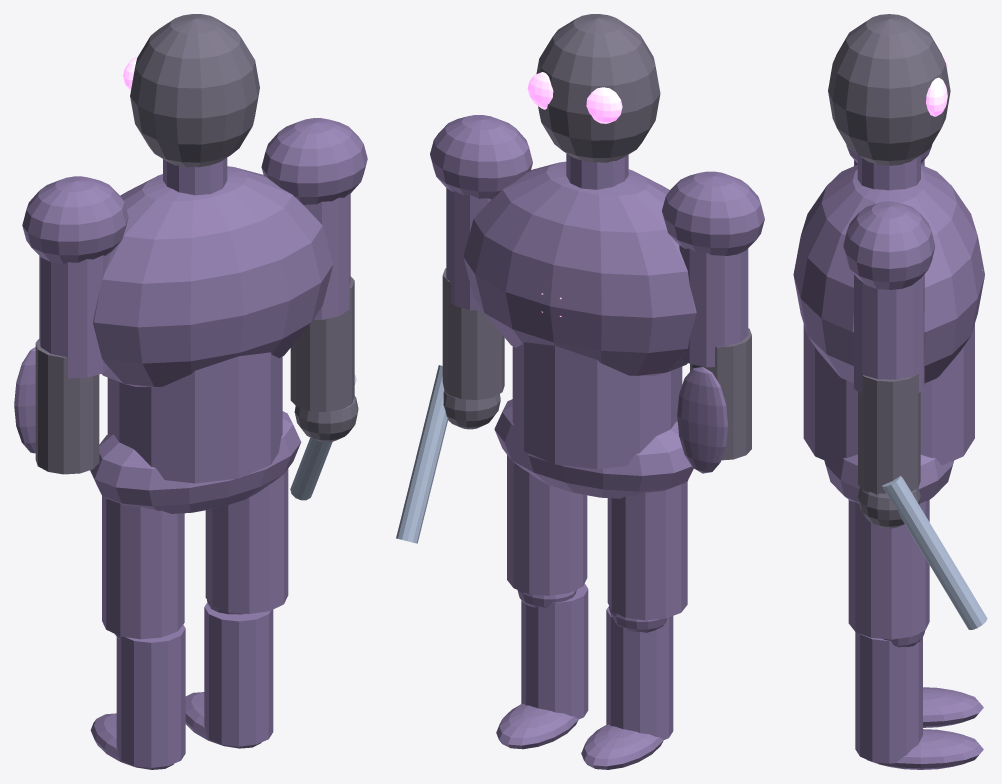
File: race_enemy.glb
3 renders of one model, left to right at view 1: azimuth 30°, elevation 25°; view 2: azimuth 150°, elevation 25°; view 3: azimuth 270°, elevation 25°, orthographic. The views are drawn at different scales.
Parts seen in each view (by area): view 1: race_enemy; view 2: race_enemy; view 3: race_enemy.
Boxes of the visible parts, box(x1,y1,x2,y2) form: race_enemy: box(14, 14, 367, 769); race_enemy: box(396, 14, 764, 769); race_enemy: box(793, 14, 987, 769).
Bounding box in the file's own units: 0.84 × 1.77 × 0.4303.
